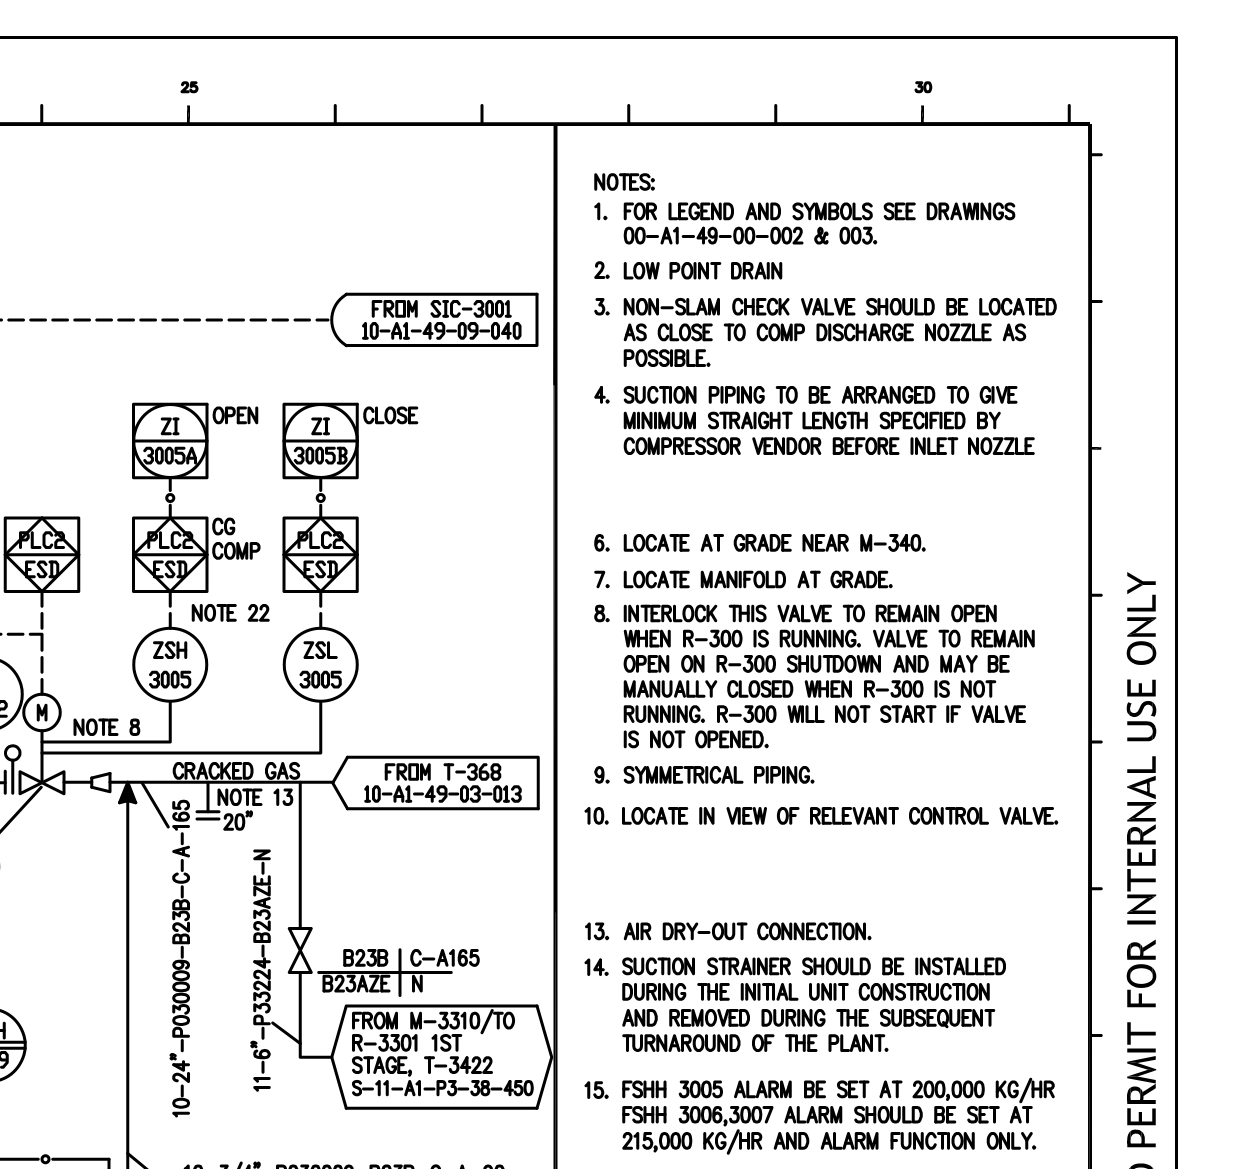Instrument Tag: (280, 622, 369, 706), (125, 399, 214, 483), (276, 399, 365, 483), (129, 623, 217, 706)
Line Number: (167, 797, 194, 1121), (246, 843, 276, 1098)
Page In: (326, 751, 547, 820)
Reducer: (86, 768, 118, 797)
Valve: (284, 922, 319, 982), (15, 766, 72, 799)
